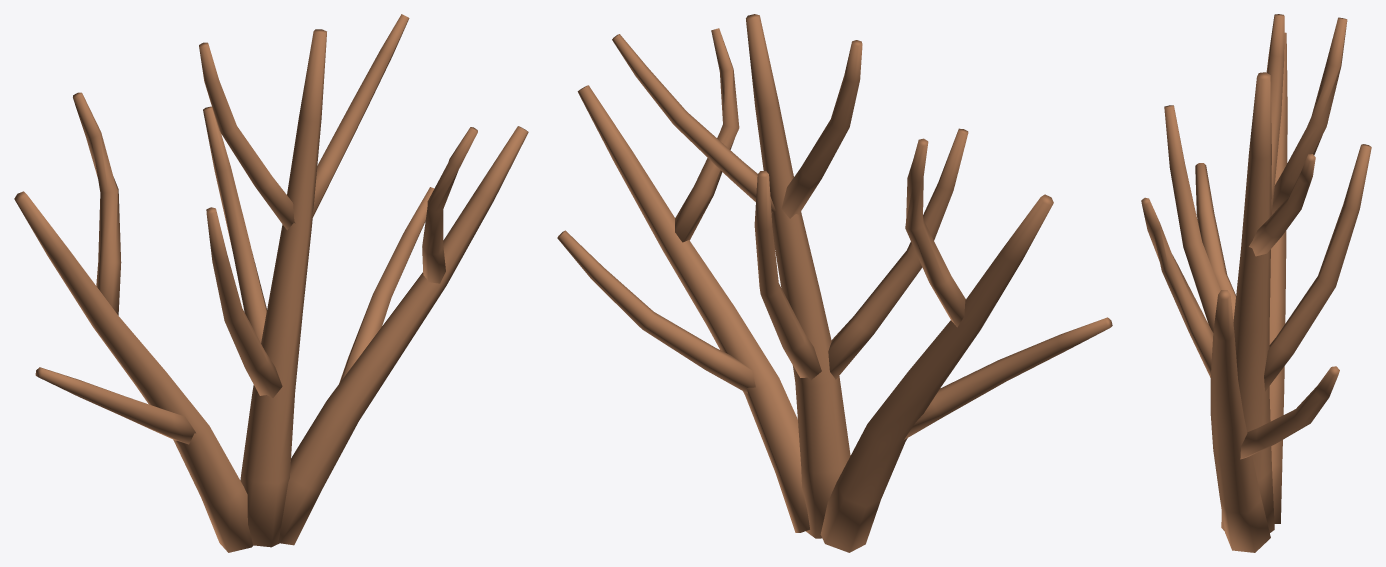
Rendered from Env_BareBush.glb.
The picture shows the model from 3 angles, left to right: view 1: azimuth 30°, elevation 25°; view 2: azimuth 150°, elevation 25°; view 3: azimuth 270°, elevation 25°; orthographic projection. The views are drawn at different scales.
Visible parts, largest first — view 1: Env_BareBush.001; view 2: Env_BareBush.001; view 3: Env_BareBush.001.
Part boxes in pixels (box(x1,y1,x2,y2)): Env_BareBush.001: box(14, 14, 528, 552); Env_BareBush.001: box(557, 14, 1112, 552); Env_BareBush.001: box(1141, 14, 1371, 552).
Bounding box in the file's own units: 0.7393 × 0.7036 × 0.2922.
